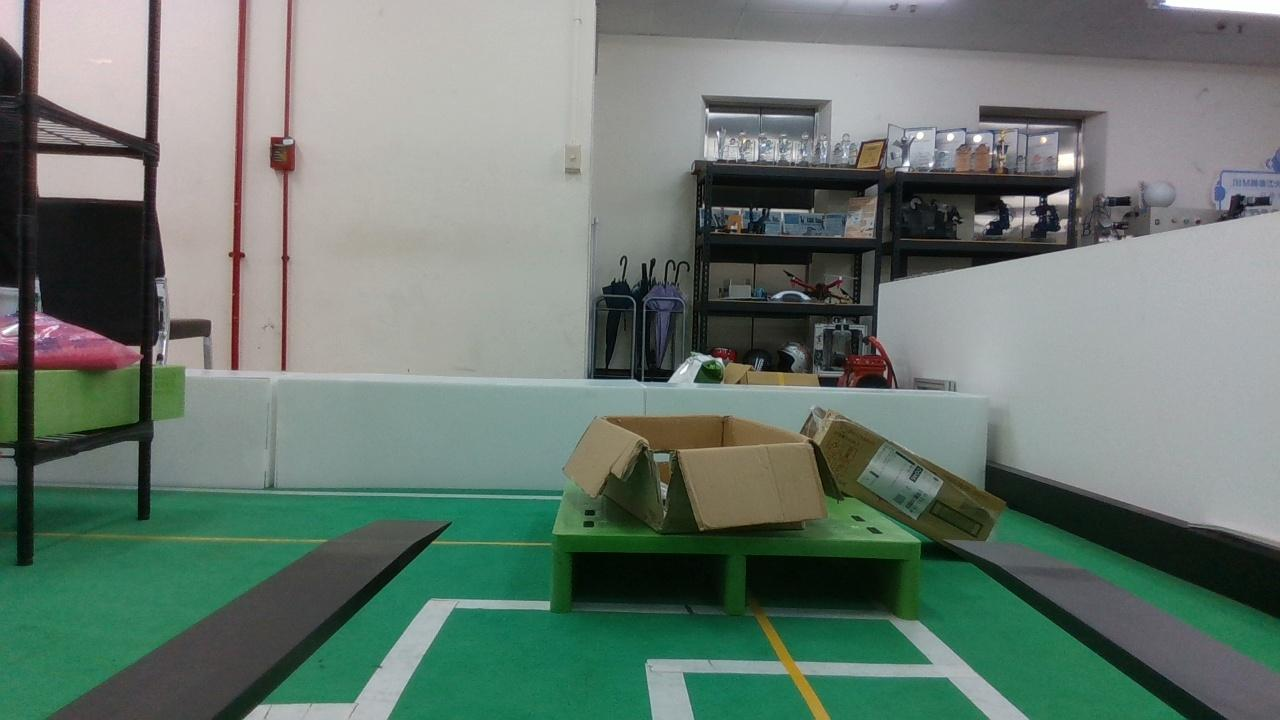Pallet: (543, 518, 922, 626)
